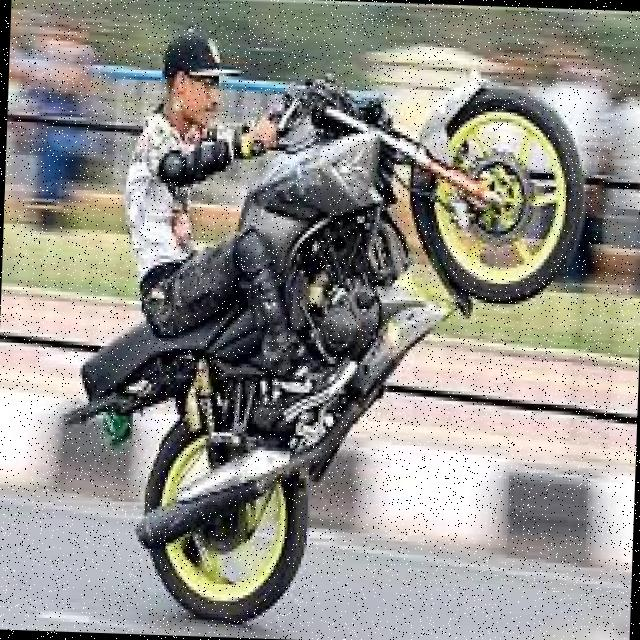Wheeling: (94, 30, 592, 635)
